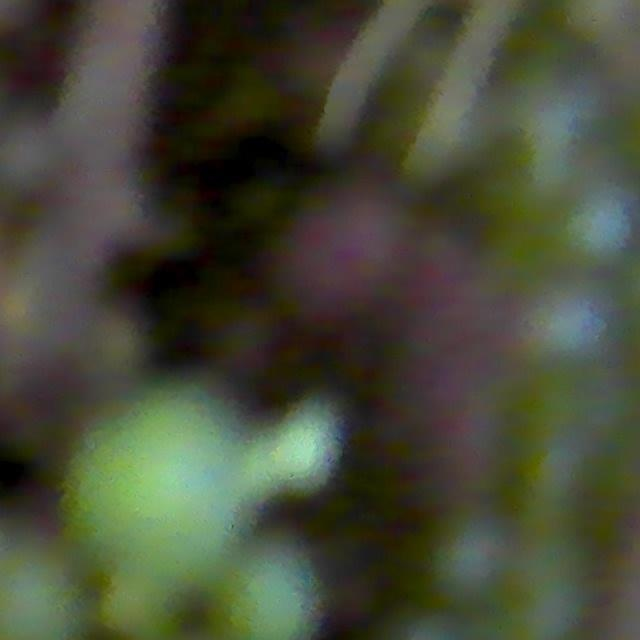SeaGrape: (46, 411, 265, 587), (209, 546, 321, 640), (545, 186, 640, 276), (0, 548, 83, 640), (500, 561, 593, 640), (448, 524, 531, 611), (530, 281, 614, 363), (100, 569, 179, 640)
